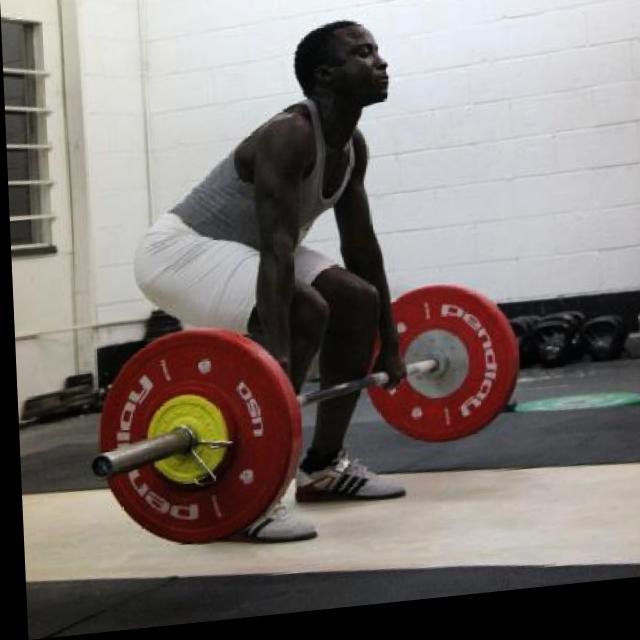barbell: (74, 325, 296, 561)
